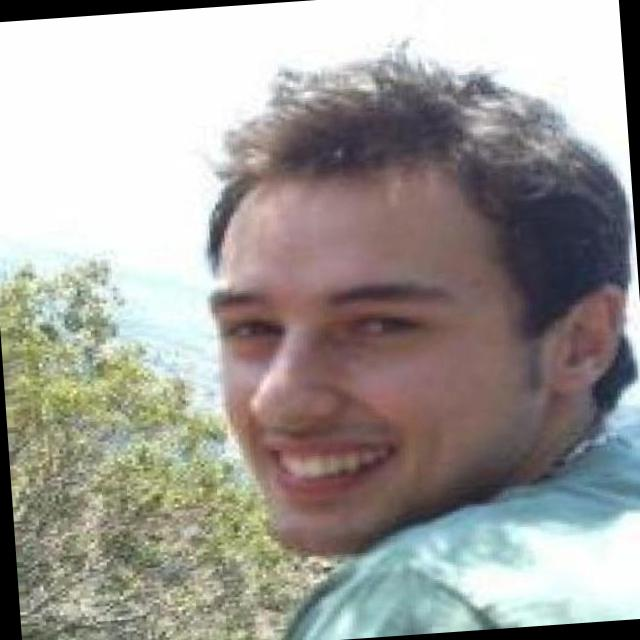bareface: (180, 14, 608, 581)
